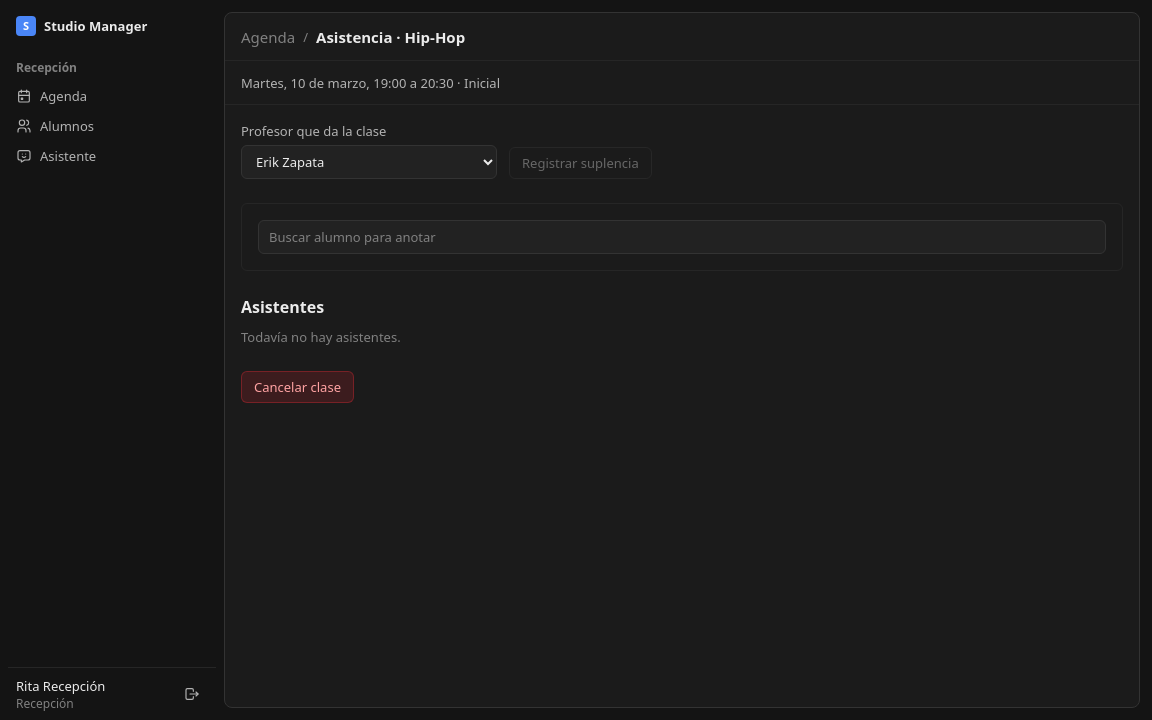
Scenario: /clases/:id › anotar a un alumno buscado manda su id y lo muestra entre los asistentes
In the search field labelled "Buscar alumno para anotar": [682, 237] box x1=258 y1=220 x2=1106 y2=254, type "mart"
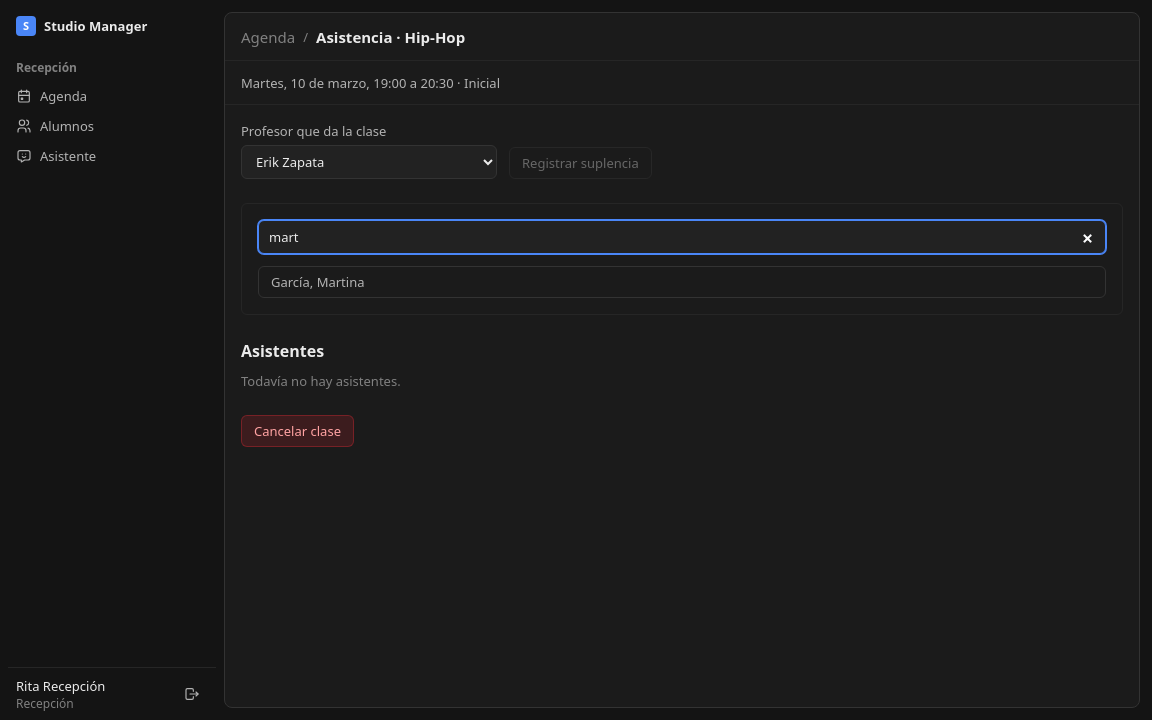
Click the button "García, Martina": [290, 282] box x1=258 y1=266 x2=1106 y2=298
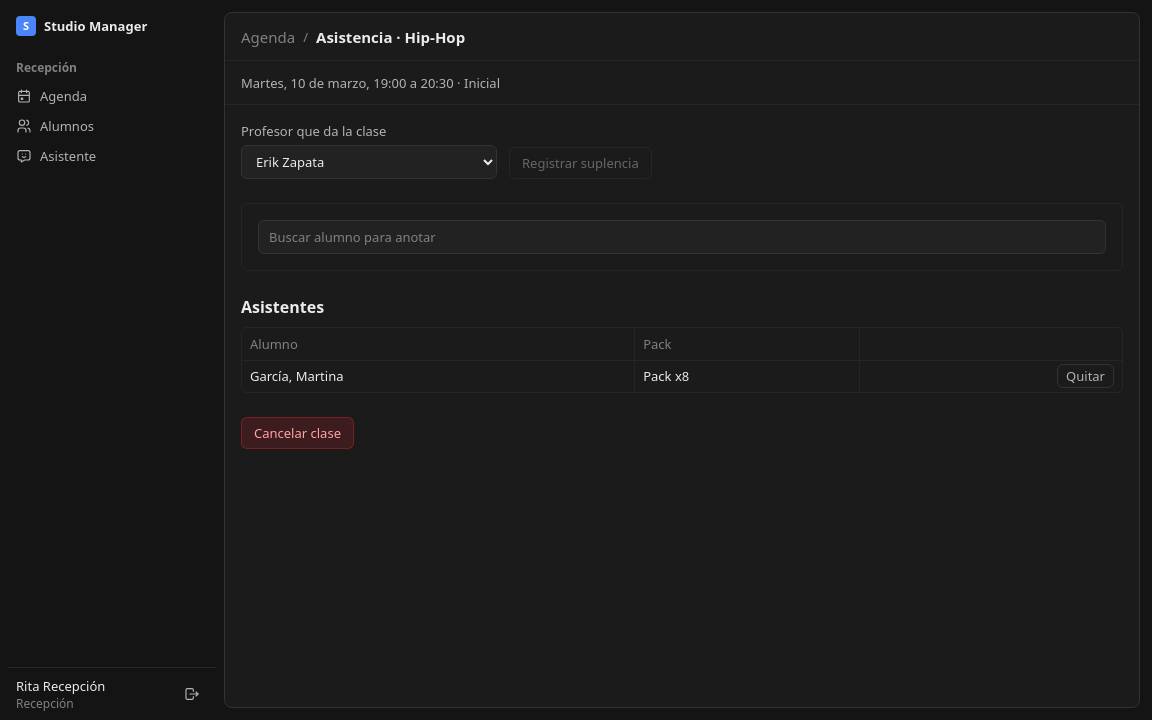
Result: the text "Pack x8" is shown at x1=635 y1=360 x2=860 y2=392
